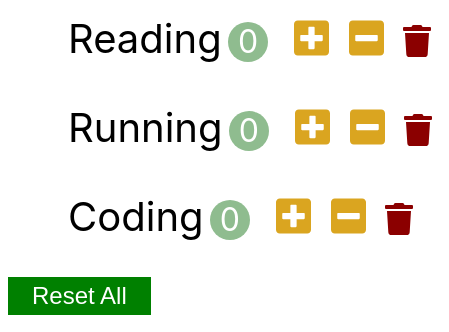
Habit Tracker › increases count
Click the button titled "increase" in the row of "Reading".
click(312, 40)  # box [288,16,335,63]
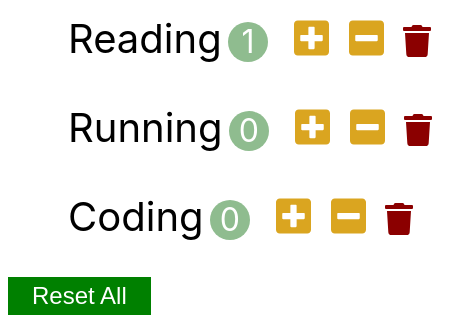
Expected: the text with test id "habit-count" reads "1", [228,22,268,62]
